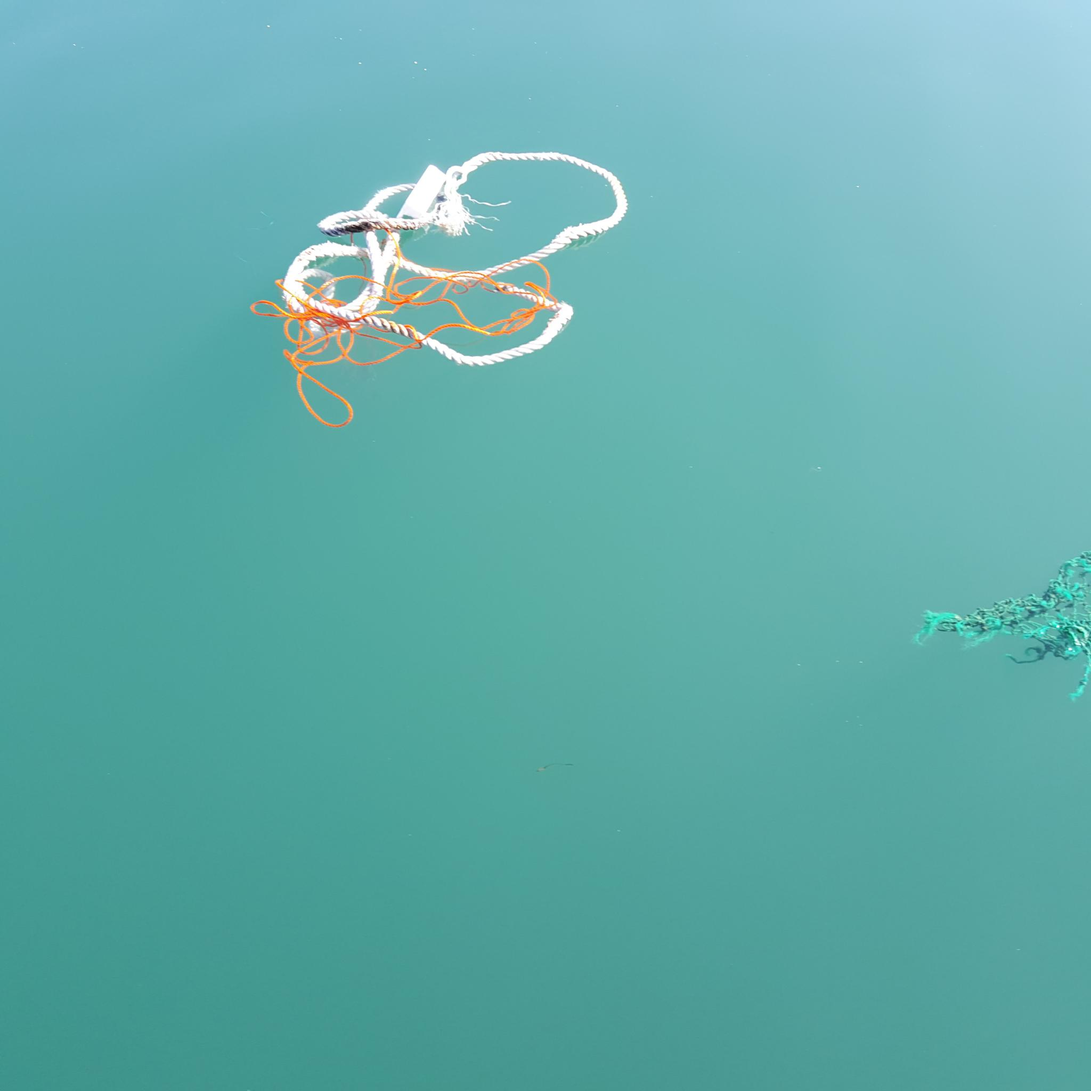sampah_terapung: (251, 152, 628, 428), (913, 551, 1091, 702), (401, 165, 446, 218)
